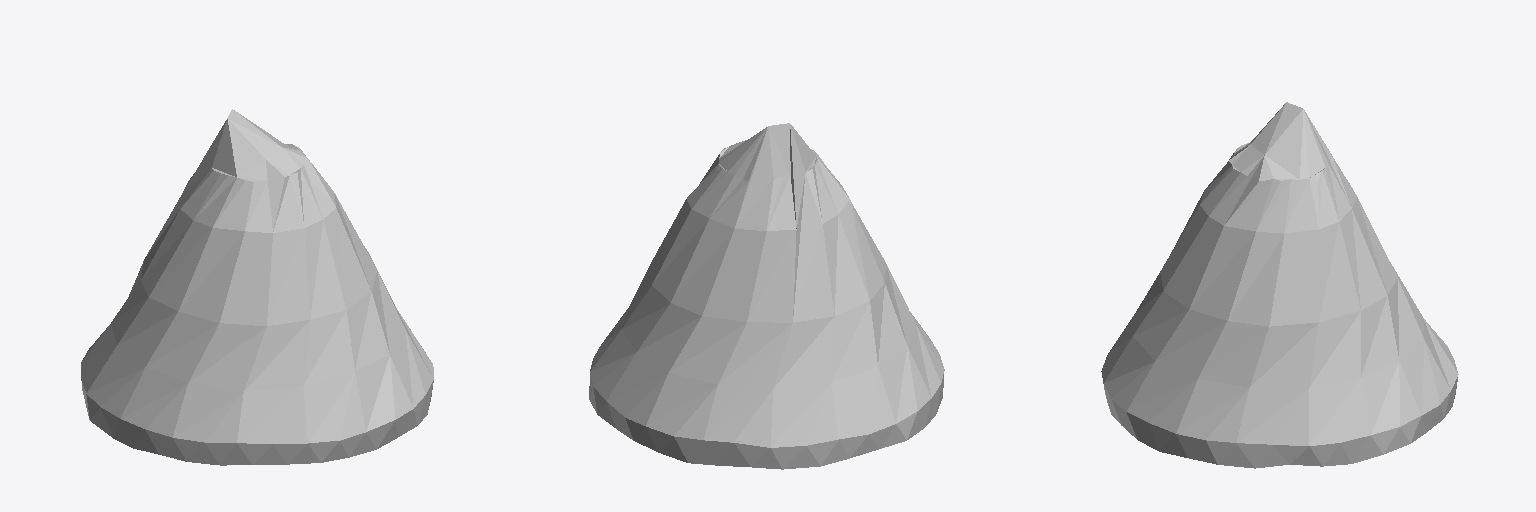
Rendered from Chocolate Icecream.obj.
3 renders of one model, left to right at view 1: azimuth 30°, elevation 25°; view 2: azimuth 150°, elevation 25°; view 3: azimuth 270°, elevation 25°, orthographic.
Visible parts, largest first — view 1: Chocolate_Icecream; view 2: Chocolate_Icecream; view 3: Chocolate_Icecream.
Part boxes in pixels (left/top/right/bottom): Chocolate_Icecream: left=81, top=109, right=433, bottom=465; Chocolate_Icecream: left=589, top=123, right=944, bottom=469; Chocolate_Icecream: left=1101, top=102, right=1458, bottom=468.
Size of the model in its own units: 0.093 by 0.0825 by 0.0943.